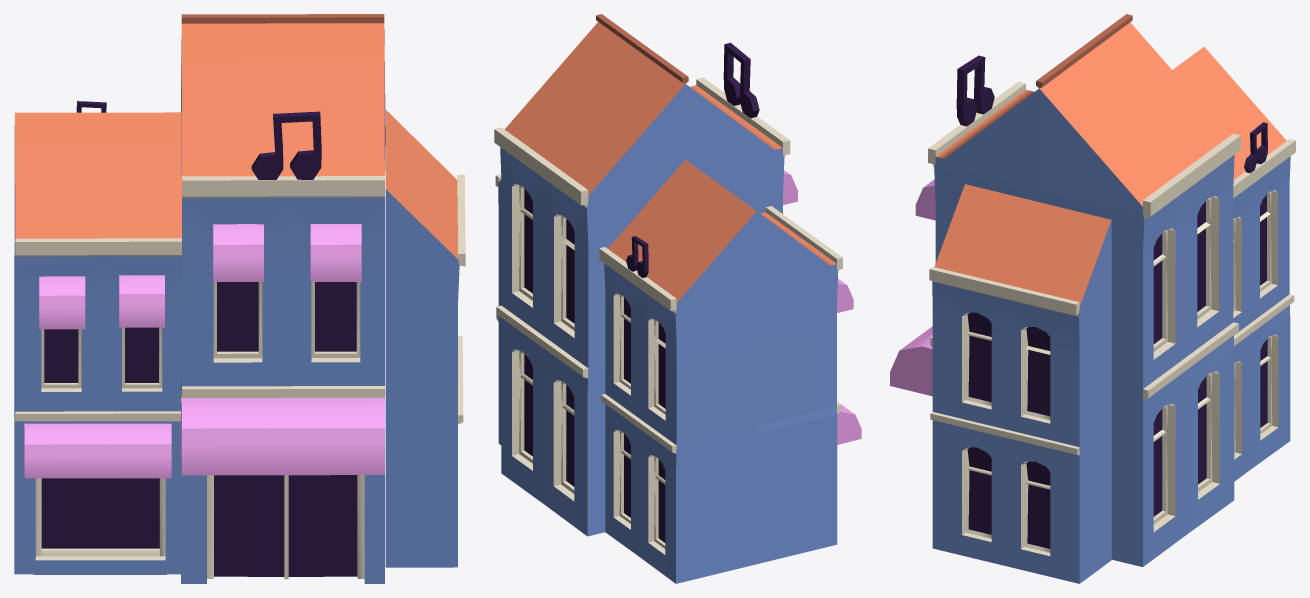
File: M_ClubTIle2.fbx
The picture shows the model from 3 angles, left to right: view 1: azimuth 30°, elevation 25°; view 2: azimuth 150°, elevation 25°; view 3: azimuth 270°, elevation 25°; orthographic projection. The views are drawn at different scales.
Visible parts, largest first — view 1: polySurface12; view 2: polySurface12; view 3: polySurface12.
Part boxes in pixels (x1=…): polySurface12: x1=14, y1=14, x2=465, y2=583; polySurface12: x1=494, y1=14, x2=861, y2=583; polySurface12: x1=890, y1=14, x2=1295, y2=583.
Size of the model in its own units: 1.34 by 1.5 by 1.2.
1 material, 1 textured.
